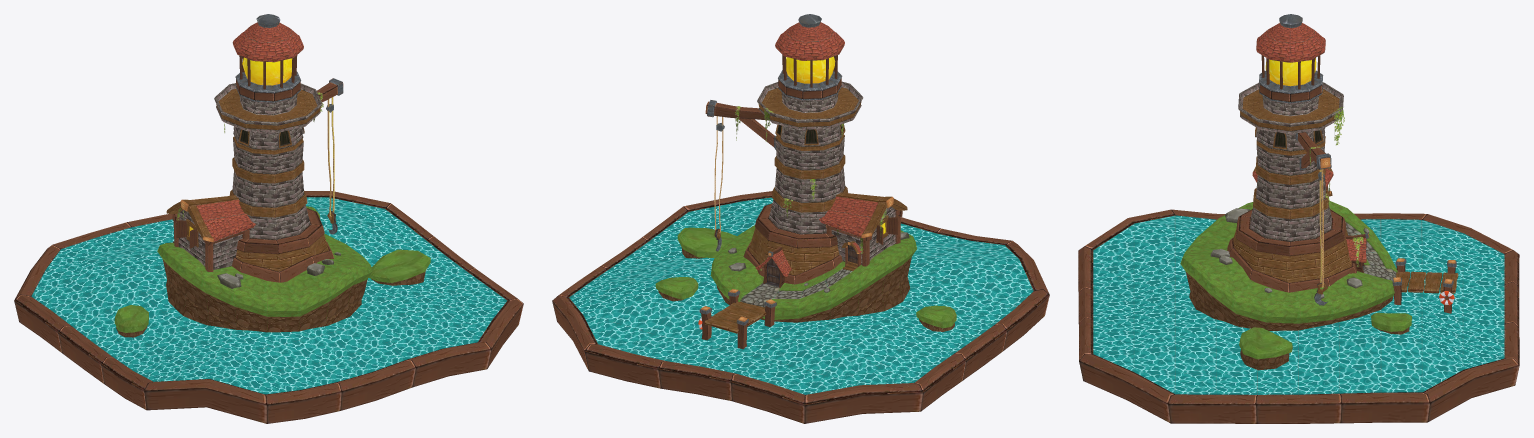
The model's file is lighthouse.glb.
3 renders of one model, left to right at view 1: azimuth 30°, elevation 25°; view 2: azimuth 150°, elevation 25°; view 3: azimuth 270°, elevation 25°, orthographic. The views are drawn at different scales.
Visible parts, largest first — view 1: pPlane1, pCube98, polySurface21, polySurface37, pCylinder29, polySurface48, pCylinder15; view 2: pPlane1, pCube98, polySurface21, polySurface37, pCylinder29, pCylinder15, pCylinder28, polySurface48; view 3: pPlane1, pCube98, polySurface21, pCylinder29, polySurface48, pCylinder28.
Boxes of the visible parts, x1,y1,x2,y2 form: pPlane1: (14,191,523,423); pCube98: (214,14,343,271); polySurface21: (157,233,372,332); polySurface37: (166,195,255,269); pCylinder29: (369,249,430,285); polySurface48: (232,241,334,282); pCylinder15: (114,305,148,337); pPlane1: (552,191,1049,423); pCube98: (705,14,863,275); polySurface21: (710,225,916,322); polySurface37: (819,192,907,264); pCylinder29: (677,227,736,258); pCylinder15: (916,305,956,331); pCylinder28: (655,277,698,301); polySurface48: (743,242,842,284); pPlane1: (1078,209,1519,423); pCube98: (1233,14,1351,287); polySurface21: (1180,201,1397,330); pCylinder29: (1239,327,1292,370); polySurface48: (1227,237,1356,292); pCylinder28: (1371,312,1411,334).
Bounding box in the file's own units: 263 × 208 × 263.
Materials: 2 (2 with a texture image).
